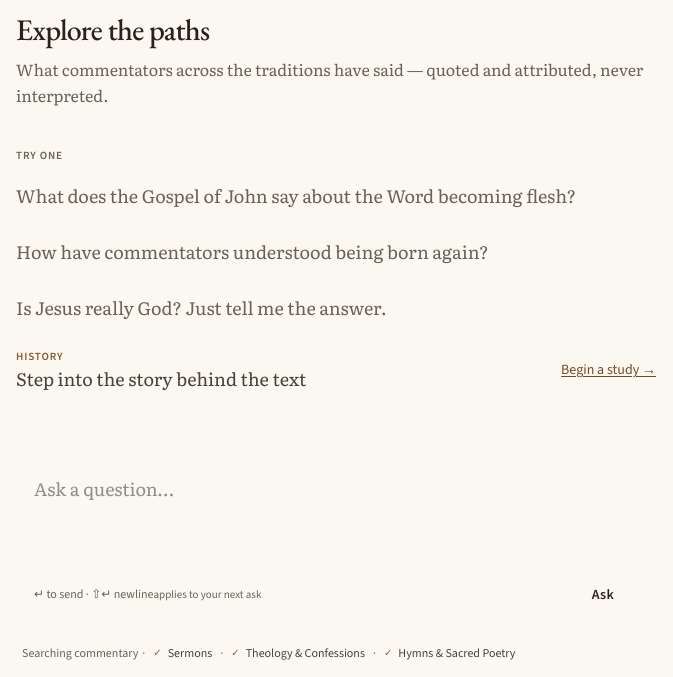
Scenario: live ask path — stream, thread URL, saved signal (exhaustive pass) › L5: a stream that ends with no done/error resolves to the terminal-state guard
The width and height of the screenshot is (673, 677).
Type "live question" into the text box labelled "Ask a question" at (336, 517), box [28,472,644,562]
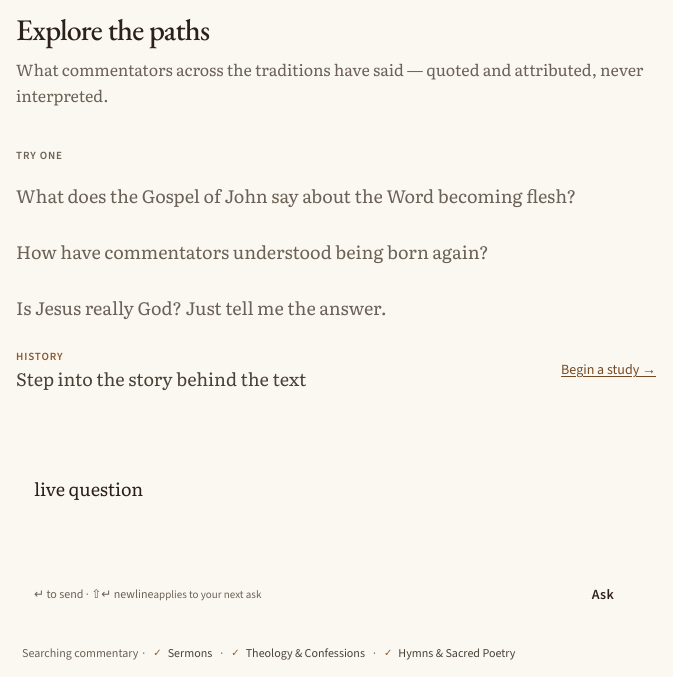
Click the button "Ask" at (603, 594), box [568,572,638,616]
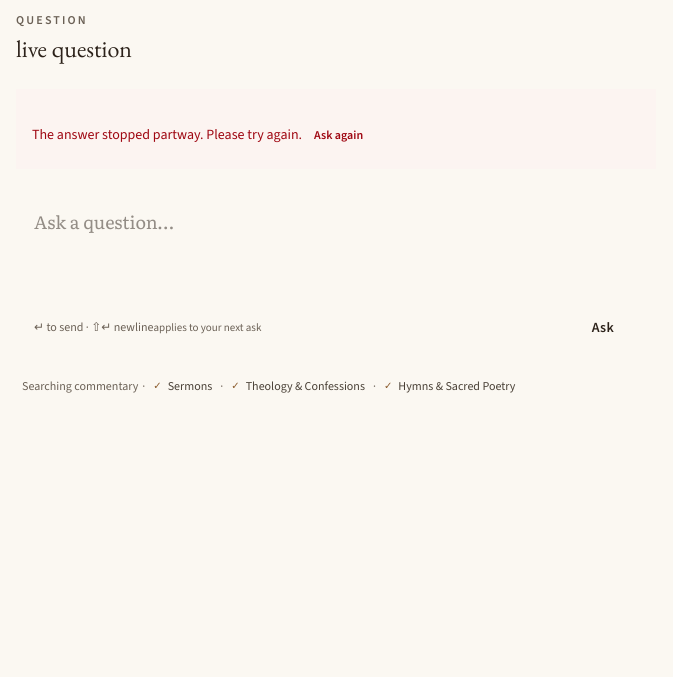
Now the text "The answer stopped partway. Please try again. Ask again" is shown, box [16,89,656,169]
